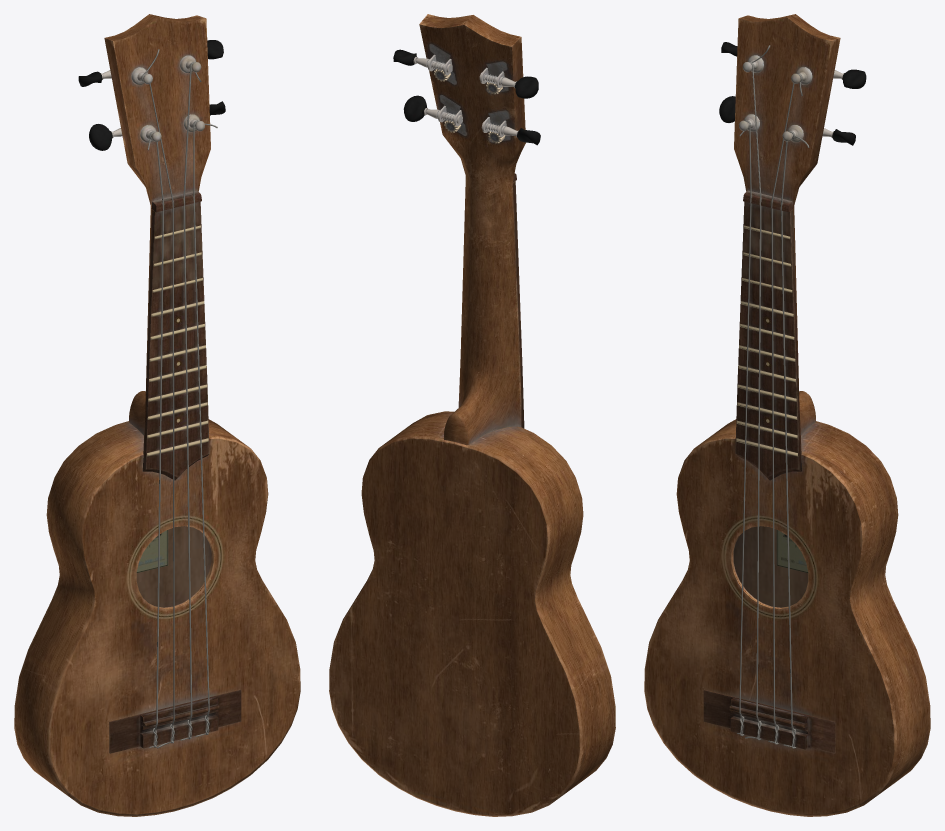
File: modelo.glb
3 views of the same model, side by side, from view 1: azimuth 30°, elevation 25°; view 2: azimuth 150°, elevation 25°; view 3: azimuth 330°, elevation 25° (orthographic).
Visible parts, largest first — view 1: Ukulele_01; view 2: Ukulele_01; view 3: Ukulele_01.
Boxes of the visible parts, left/top/right/bottom form: Ukulele_01: left=14, top=14, right=300, bottom=816; Ukulele_01: left=329, top=14, right=615, bottom=816; Ukulele_01: left=644, top=14, right=930, bottom=816.
Bounding box in the file's own units: 0.1779 × 0.527 × 0.0508.
1 material, 1 textured.
